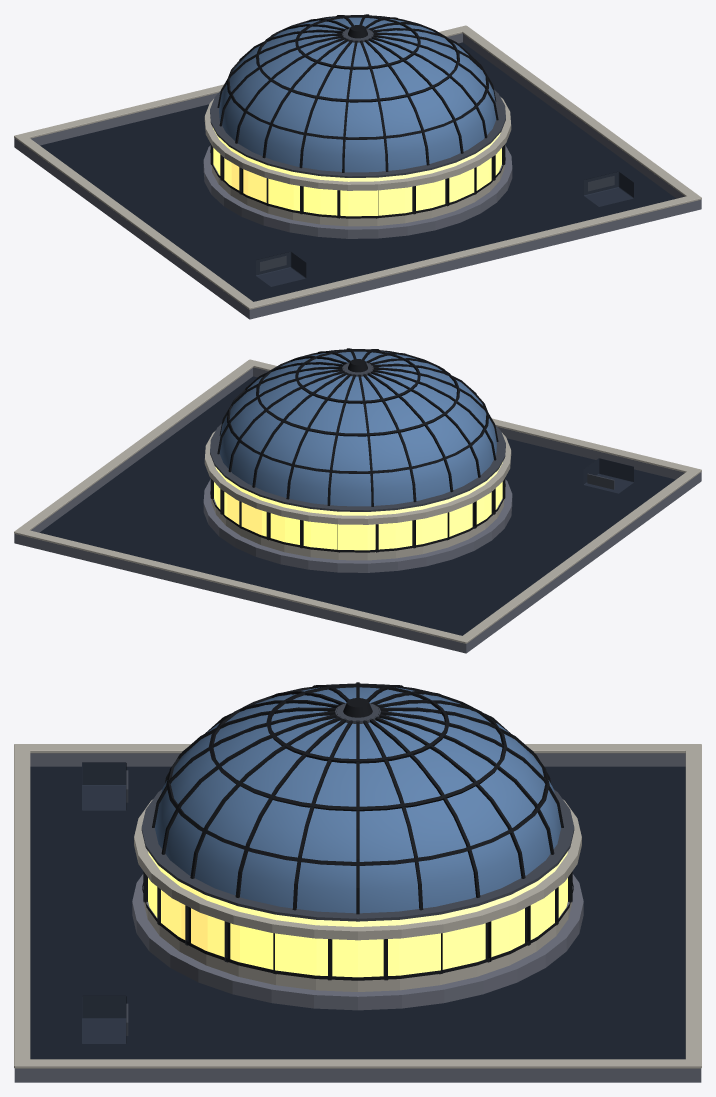
The model's file is lib_roof.glb.
3 views of the same model, one above another, from view 1: azimuth 30°, elevation 25°; view 2: azimuth 150°, elevation 25°; view 3: azimuth 270°, elevation 25° (orthographic). The views are drawn at different scales.
Parts seen in each view (by area): view 1: roof, dome; view 2: roof, dome; view 3: roof, dome.
Part boxes in pixels (x1,y1,x2,y2): roof: (14, 25, 701, 319); dome: (217, 14, 498, 172); roof: (14, 359, 701, 653); dome: (217, 348, 498, 506); roof: (14, 744, 701, 1082); dome: (152, 682, 563, 914).
Bounding box in the file's own units: 20.44 × 6.48 × 18.44.
